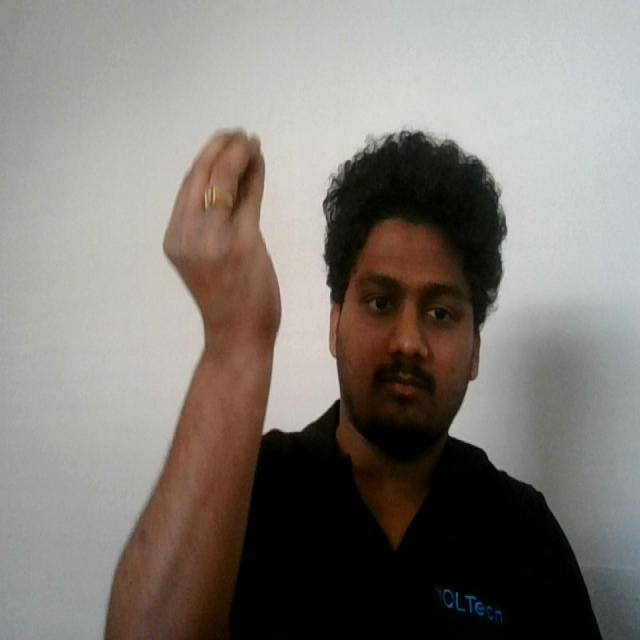Please: (149, 120, 299, 365)
